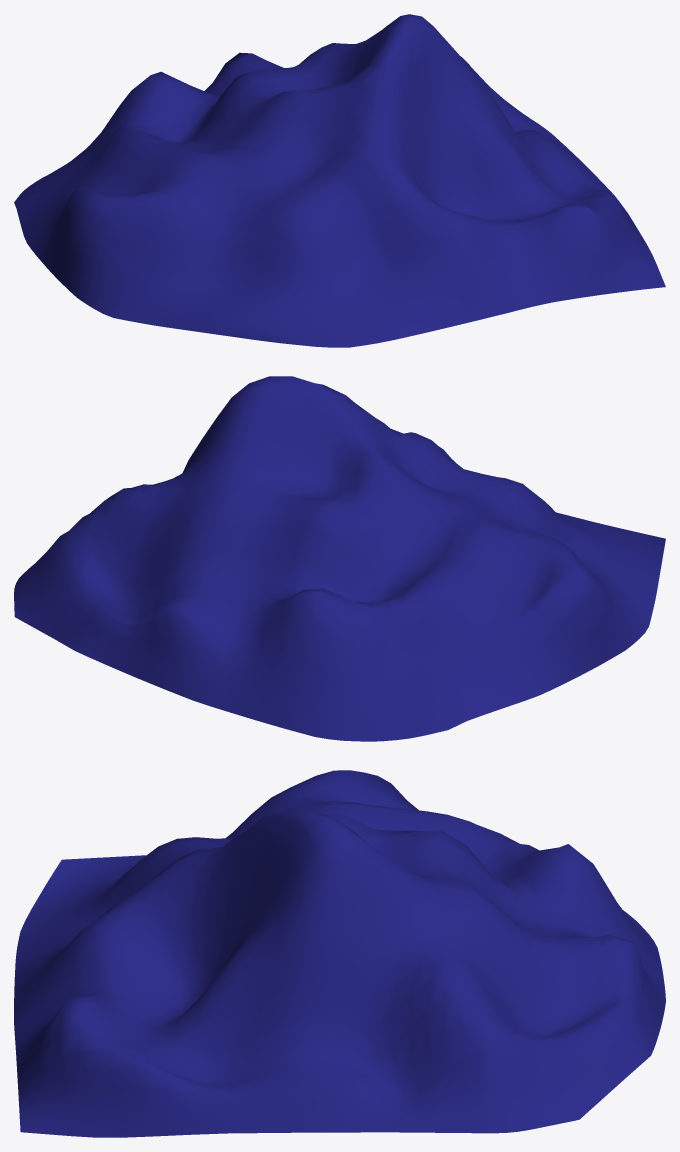
File: Pile_7_v1.FBX
3 views of the same model, one above another, from view 1: azimuth 30°, elevation 25°; view 2: azimuth 150°, elevation 25°; view 3: azimuth 270°, elevation 25° (orthographic). The views are drawn at different scales.
Parts seen in each view (by area): view 1: pile_005; view 2: pile_005; view 3: pile_005.
Part boxes in pixels (x1,y1,x2,y2): pile_005: (14, 14, 665, 347); pile_005: (14, 376, 665, 741); pile_005: (14, 770, 665, 1137).
Bounding box in the file's own units: 233 × 89.17 × 217.
